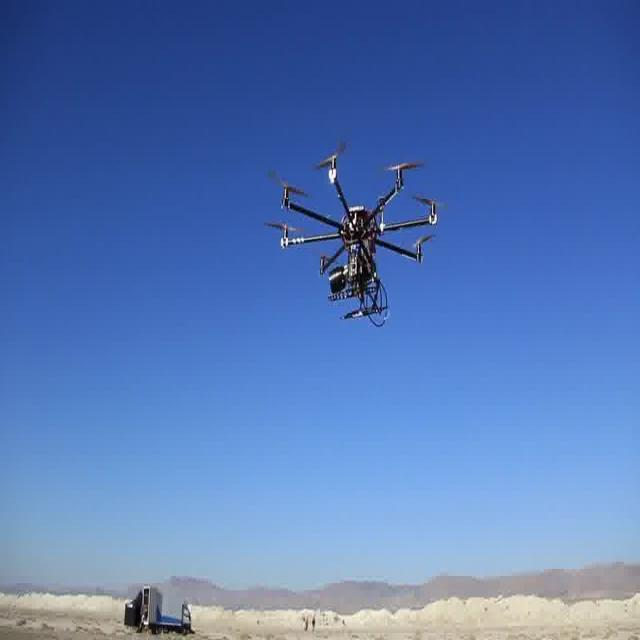drones: (255, 129, 448, 340)
